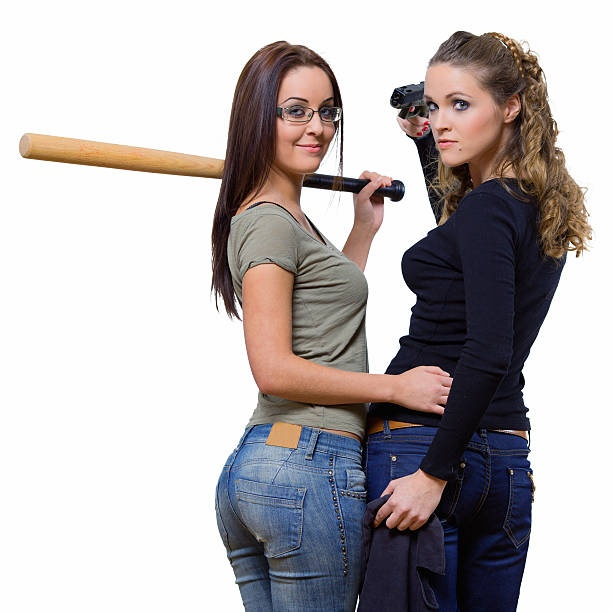bita: (15, 136, 400, 200)
